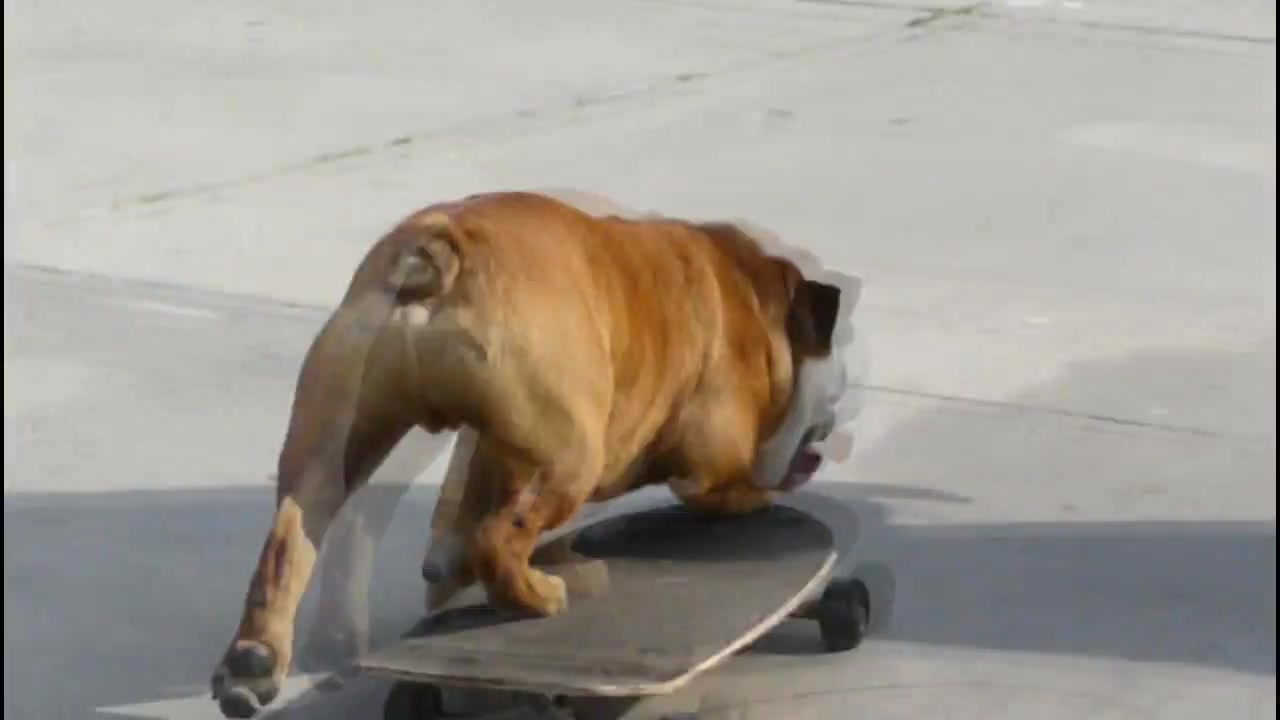dog: (208, 187, 850, 720)
